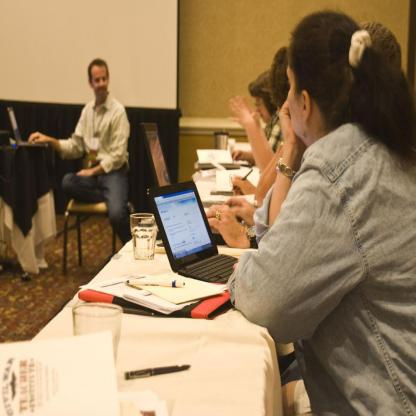board: (147, 181, 238, 284)
